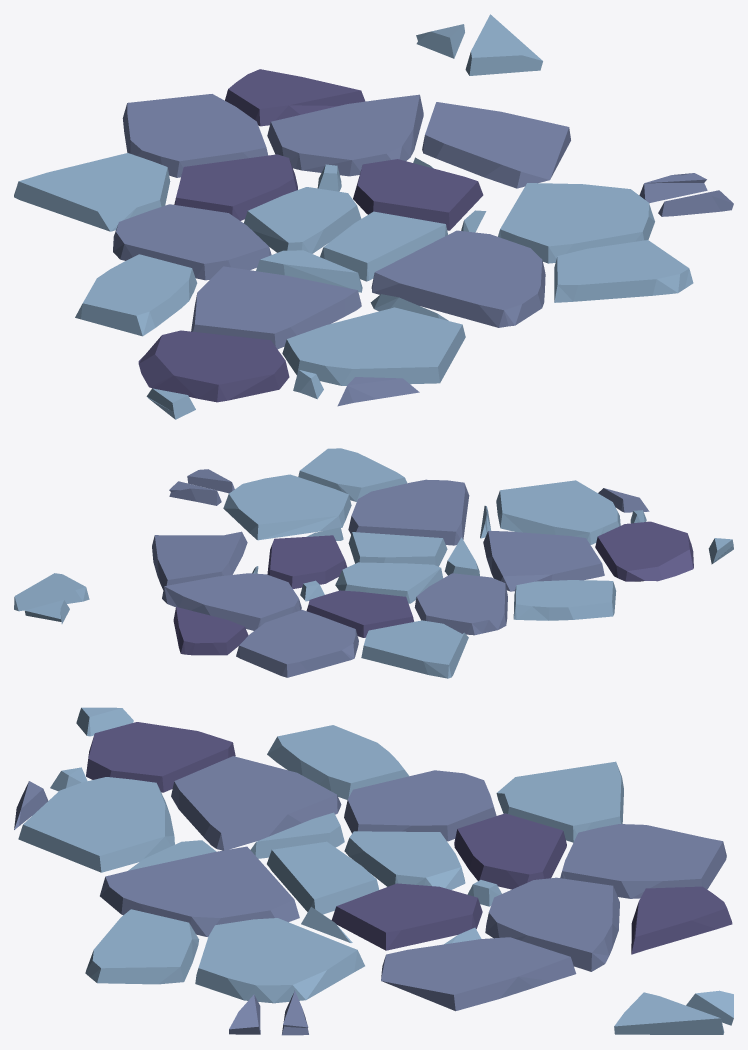
The model's file is Floor_Stones_04.fbx.
The picture shows the model from 3 angles, top to bottom: view 1: azimuth 30°, elevation 25°; view 2: azimuth 150°, elevation 25°; view 3: azimuth 270°, elevation 25°; orthographic projection. The views are drawn at different scales.
Visible parts, largest first — view 1: Floor_Stone_5; view 2: Floor_Stone_5; view 3: Floor_Stone_5.
Part boxes in pixels (bbox=[...]): Floor_Stone_5: bbox=[14, 14, 733, 419]; Floor_Stone_5: bbox=[14, 448, 733, 678]; Floor_Stone_5: bbox=[14, 707, 733, 1035].
Bounding box in the file's own units: 400 × 12.01 × 389.
